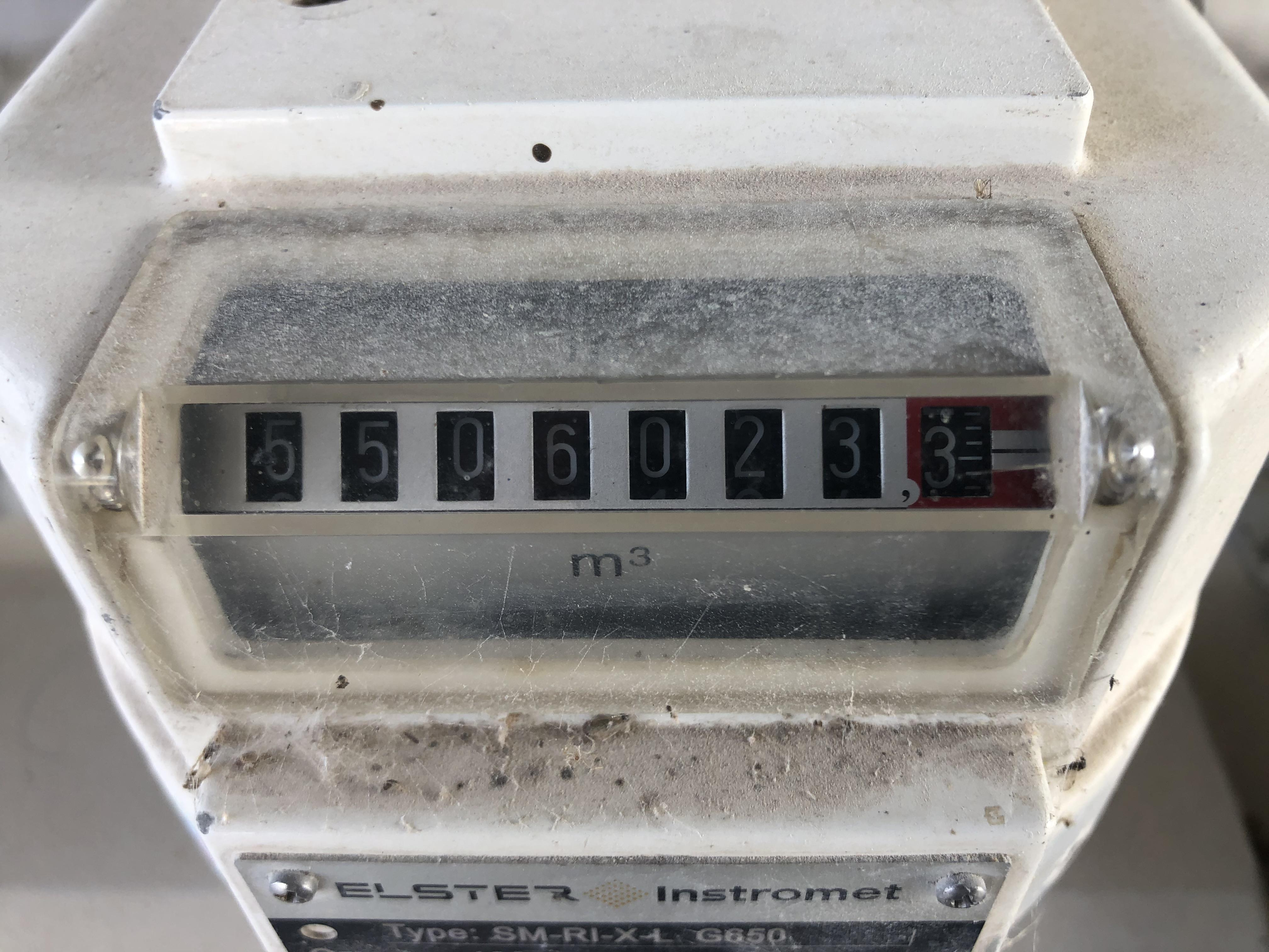analog_dial: (182, 395, 1051, 519)
